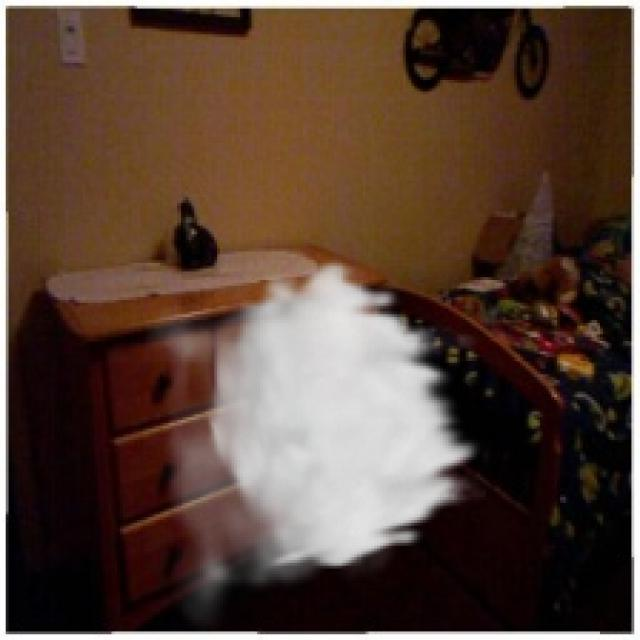Smoke: (140, 257, 486, 637)
